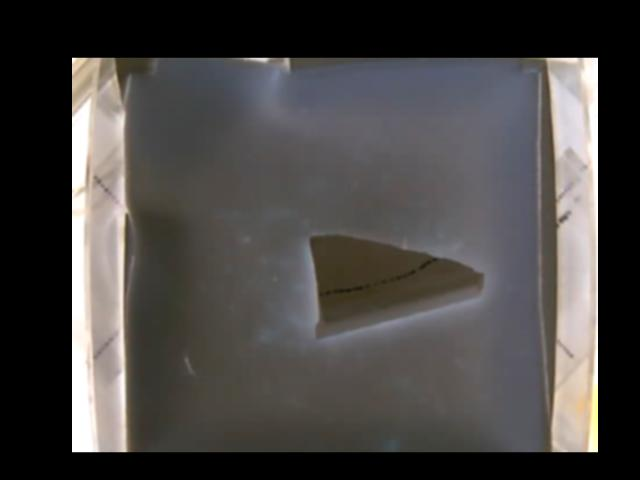China: (305, 235, 485, 340)
